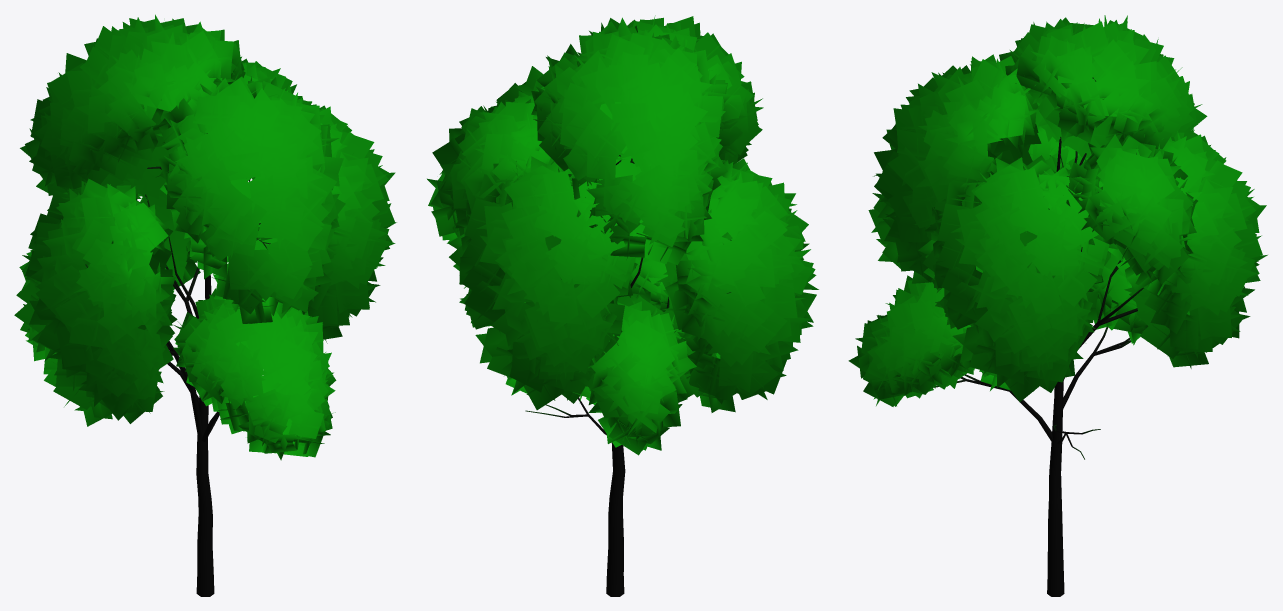
File: IL3DN_Tree_Birch_02_OneMesh.FBX
3 views of the same model, side by side, from view 1: azimuth 30°, elevation 25°; view 2: azimuth 150°, elevation 25°; view 3: azimuth 270°, elevation 25° (orthographic). The views are drawn at different scales.
Parts seen in each view (by area): view 1: IL3DN_Tree_Birch_02_LOD0; view 2: IL3DN_Tree_Birch_02_LOD0; view 3: IL3DN_Tree_Birch_02_LOD0.
Boxes of the visible parts, x1,y1,x2,y2 form: IL3DN_Tree_Birch_02_LOD0: (14,14,396,596); IL3DN_Tree_Birch_02_LOD0: (427,15,818,596); IL3DN_Tree_Birch_02_LOD0: (848,15,1267,596).
Size of what is drawn, in the model's own units: 199 by 311 by 212.
